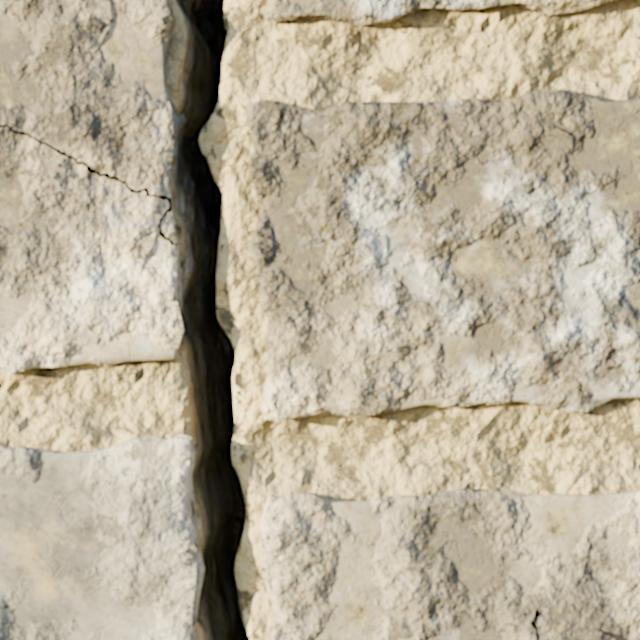crack: (0, 0, 250, 639), (246, 88, 639, 421), (259, 488, 639, 639), (263, 0, 613, 25)
